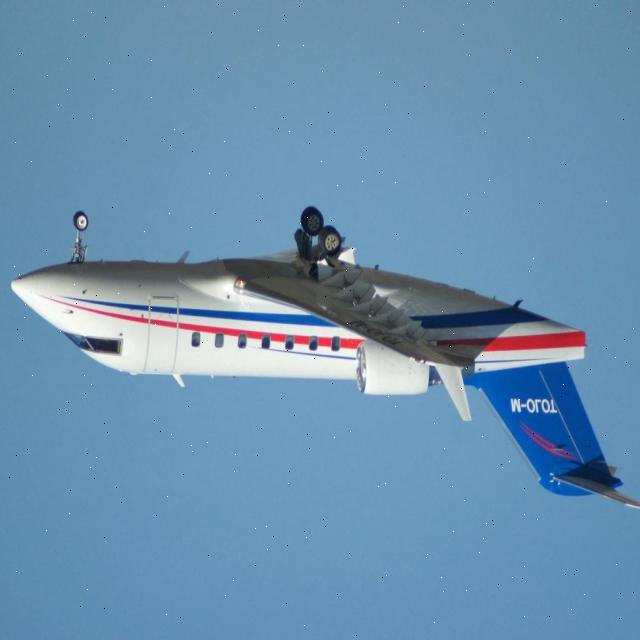jet: (0, 167, 640, 522)
